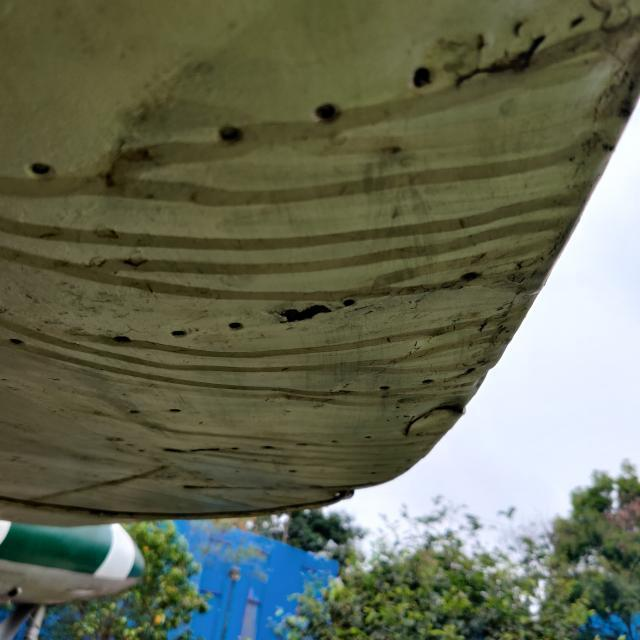Crack: (277, 304, 332, 323), (342, 299, 357, 308)
